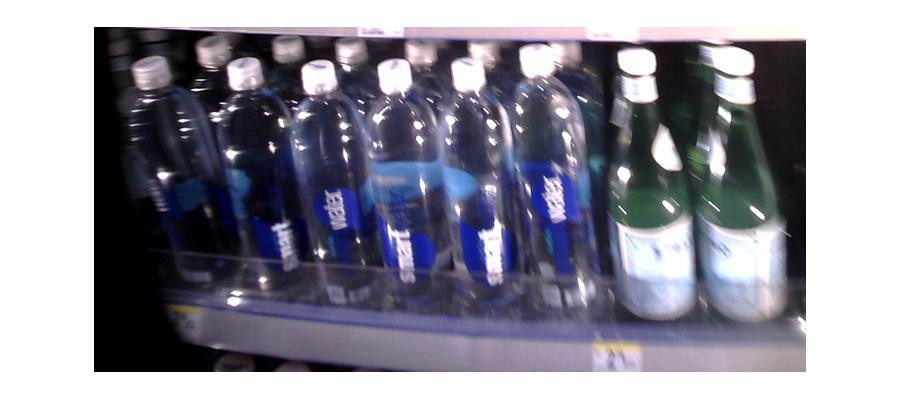bottle: (122, 49, 228, 322), (504, 50, 595, 331), (696, 53, 785, 328), (608, 58, 693, 332), (361, 59, 448, 314), (441, 55, 513, 329), (218, 65, 296, 302), (288, 65, 363, 305)
